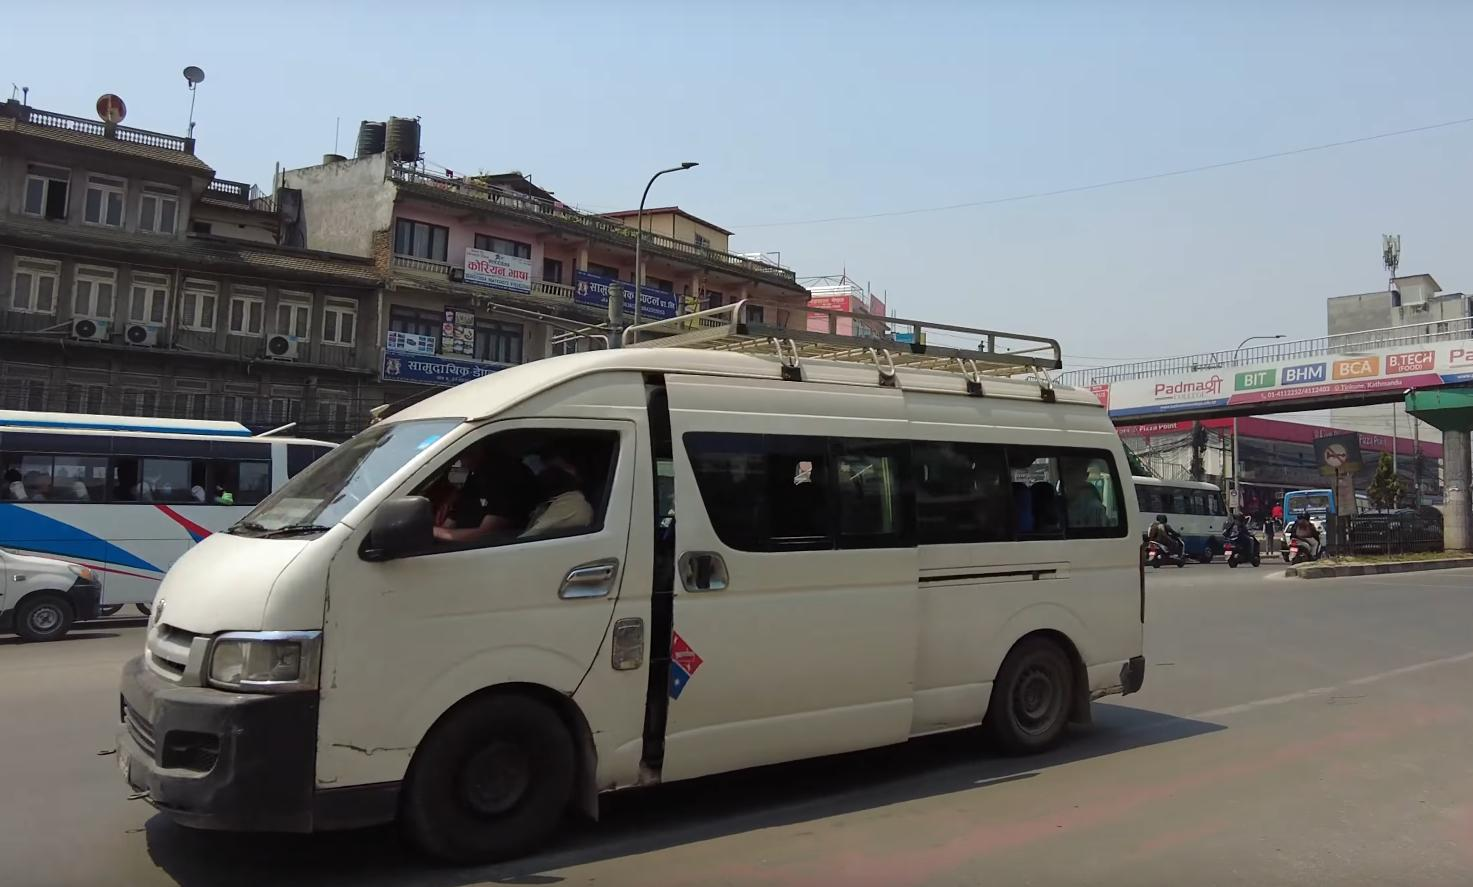bus: (0, 398, 352, 636), (1126, 471, 1240, 561)
micro_bus: (99, 287, 1158, 867)
scooter: (1223, 529, 1263, 569), (1280, 530, 1324, 567), (1148, 533, 1190, 569)
